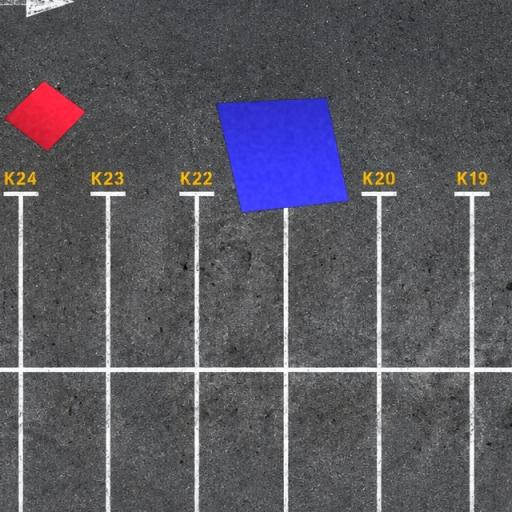BLUE_SQUARE: (216, 96, 350, 214)
RED_SQUARE: (4, 80, 86, 152)
